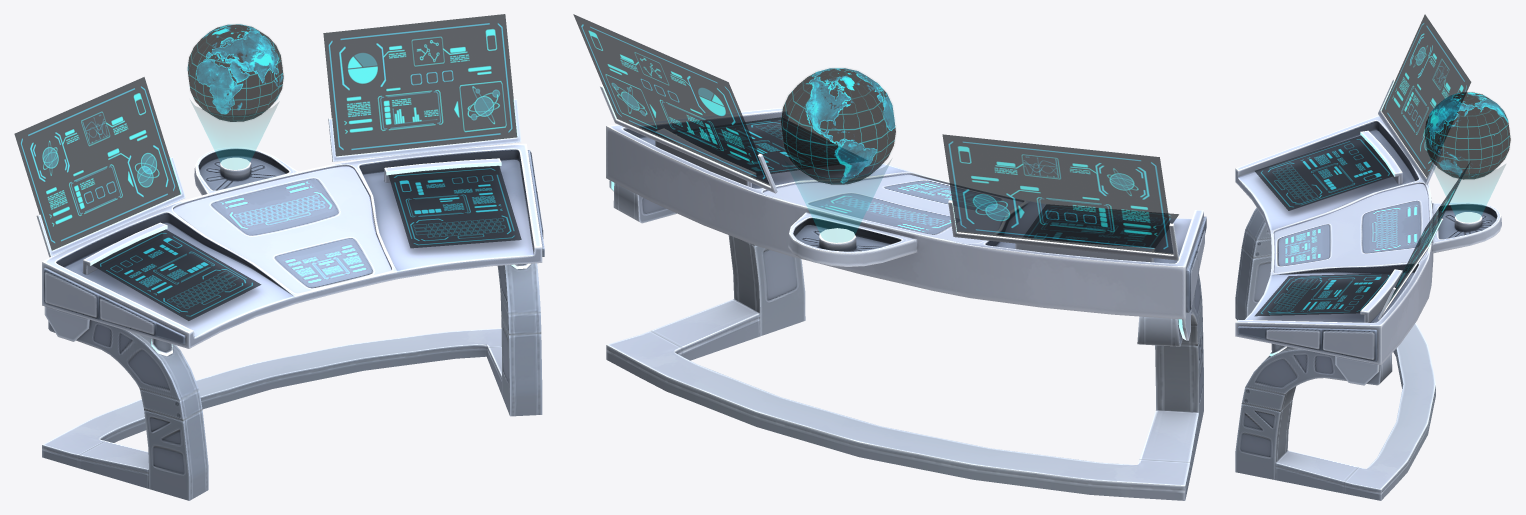
File: obj_workbench.gltf
3 renders of one model, left to right at view 1: azimuth 30°, elevation 25°; view 2: azimuth 150°, elevation 25°; view 3: azimuth 270°, elevation 25°, orthographic. The views are drawn at different scales.
Parts seen in each view (by area): view 1: obj_workbench; view 2: obj_workbench; view 3: obj_workbench.
Boxes of the visible parts, <box> form: obj_workbench: <box>14,14,544,500</box>; obj_workbench: <box>573,14,1206,500</box>; obj_workbench: <box>1235,14,1510,500</box>.
Size of what is drawn, in the model's own units: 2.89 by 1.88 by 1.57.
6 materials, 5 textured.
